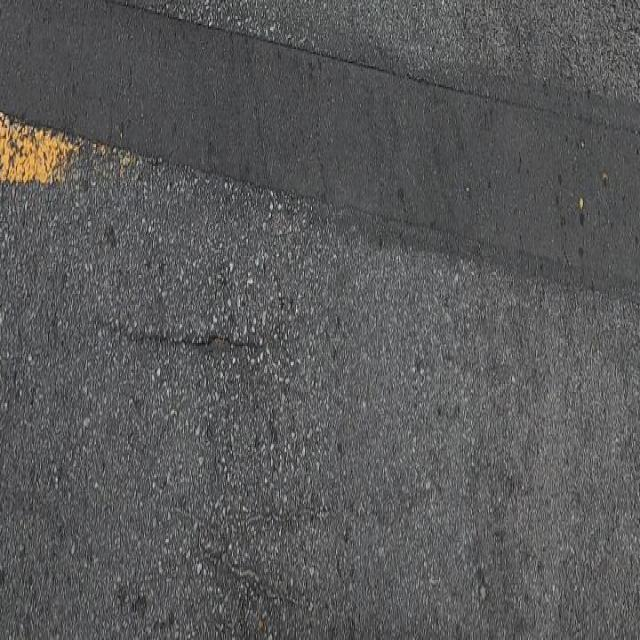cracks: (105, 299, 270, 370)
